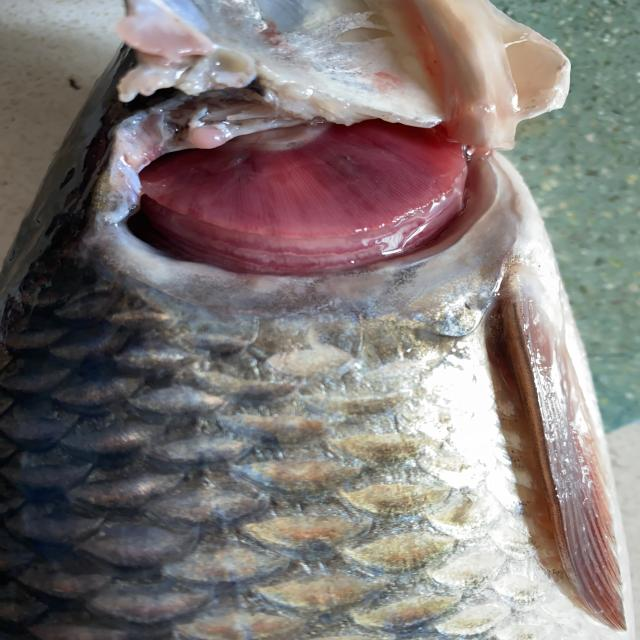Fresh: (70, 76, 521, 303)
